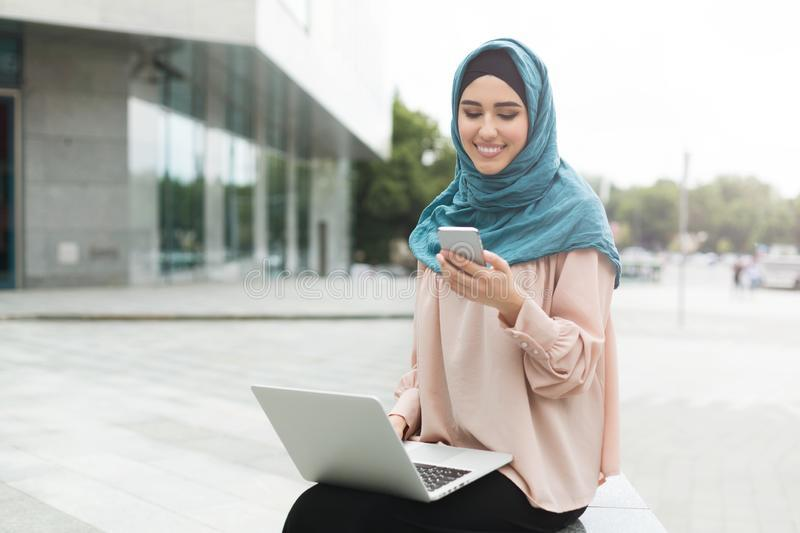No Mask: (445, 64, 557, 208)
